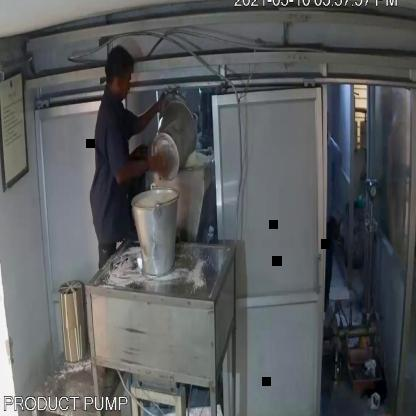no_glove: (106, 146, 166, 187)
